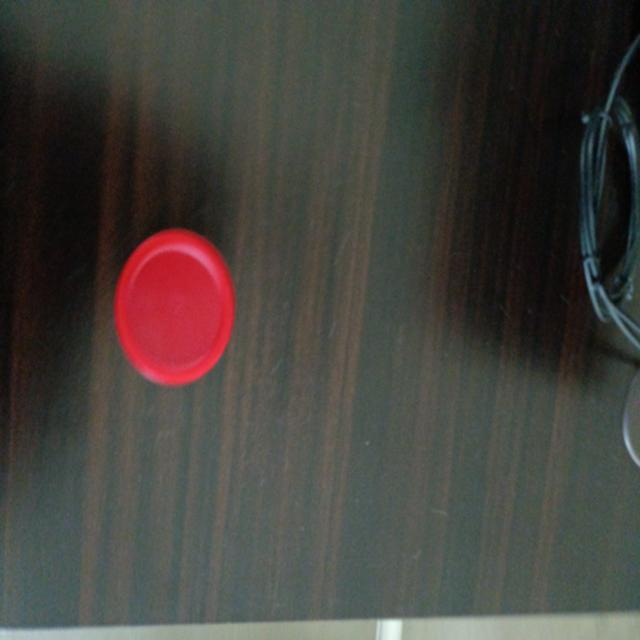chip: (110, 223, 239, 390)
